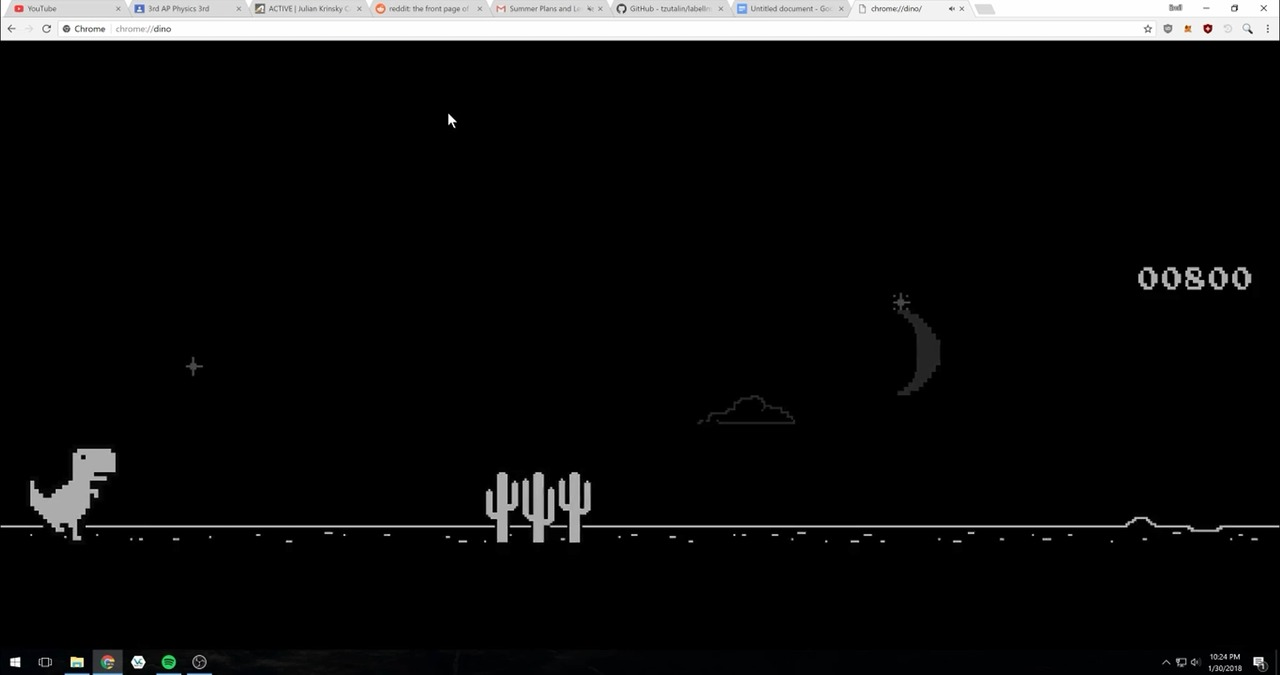cactus: (480, 466, 596, 547)
dinosaur: (30, 445, 118, 544)
